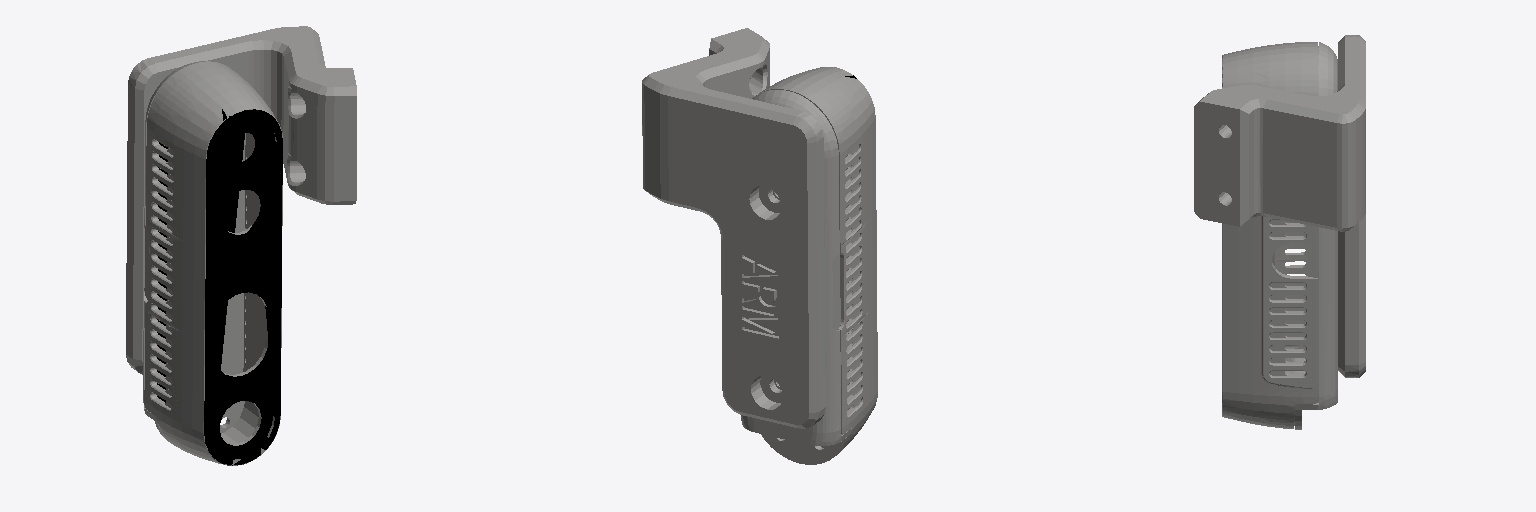
3 renders of one model, left to right at view 1: azimuth 30°, elevation 25°; view 2: azimuth 150°, elevation 25°; view 3: azimuth 270°, elevation 25°, orthographic.
Visible parts, largest first — view 1: right_realsense_link; view 2: right_realsense_link; view 3: right_realsense_link.
Boxes of the visible parts, x1,y1,x2,y2 form: right_realsense_link: [126, 26, 356, 465]; right_realsense_link: [642, 28, 877, 464]; right_realsense_link: [1194, 35, 1365, 429].
Size of the model in its own units: 0.0461 by 0.0899 by 0.0372.
Materials: 1 (1 with a texture image).